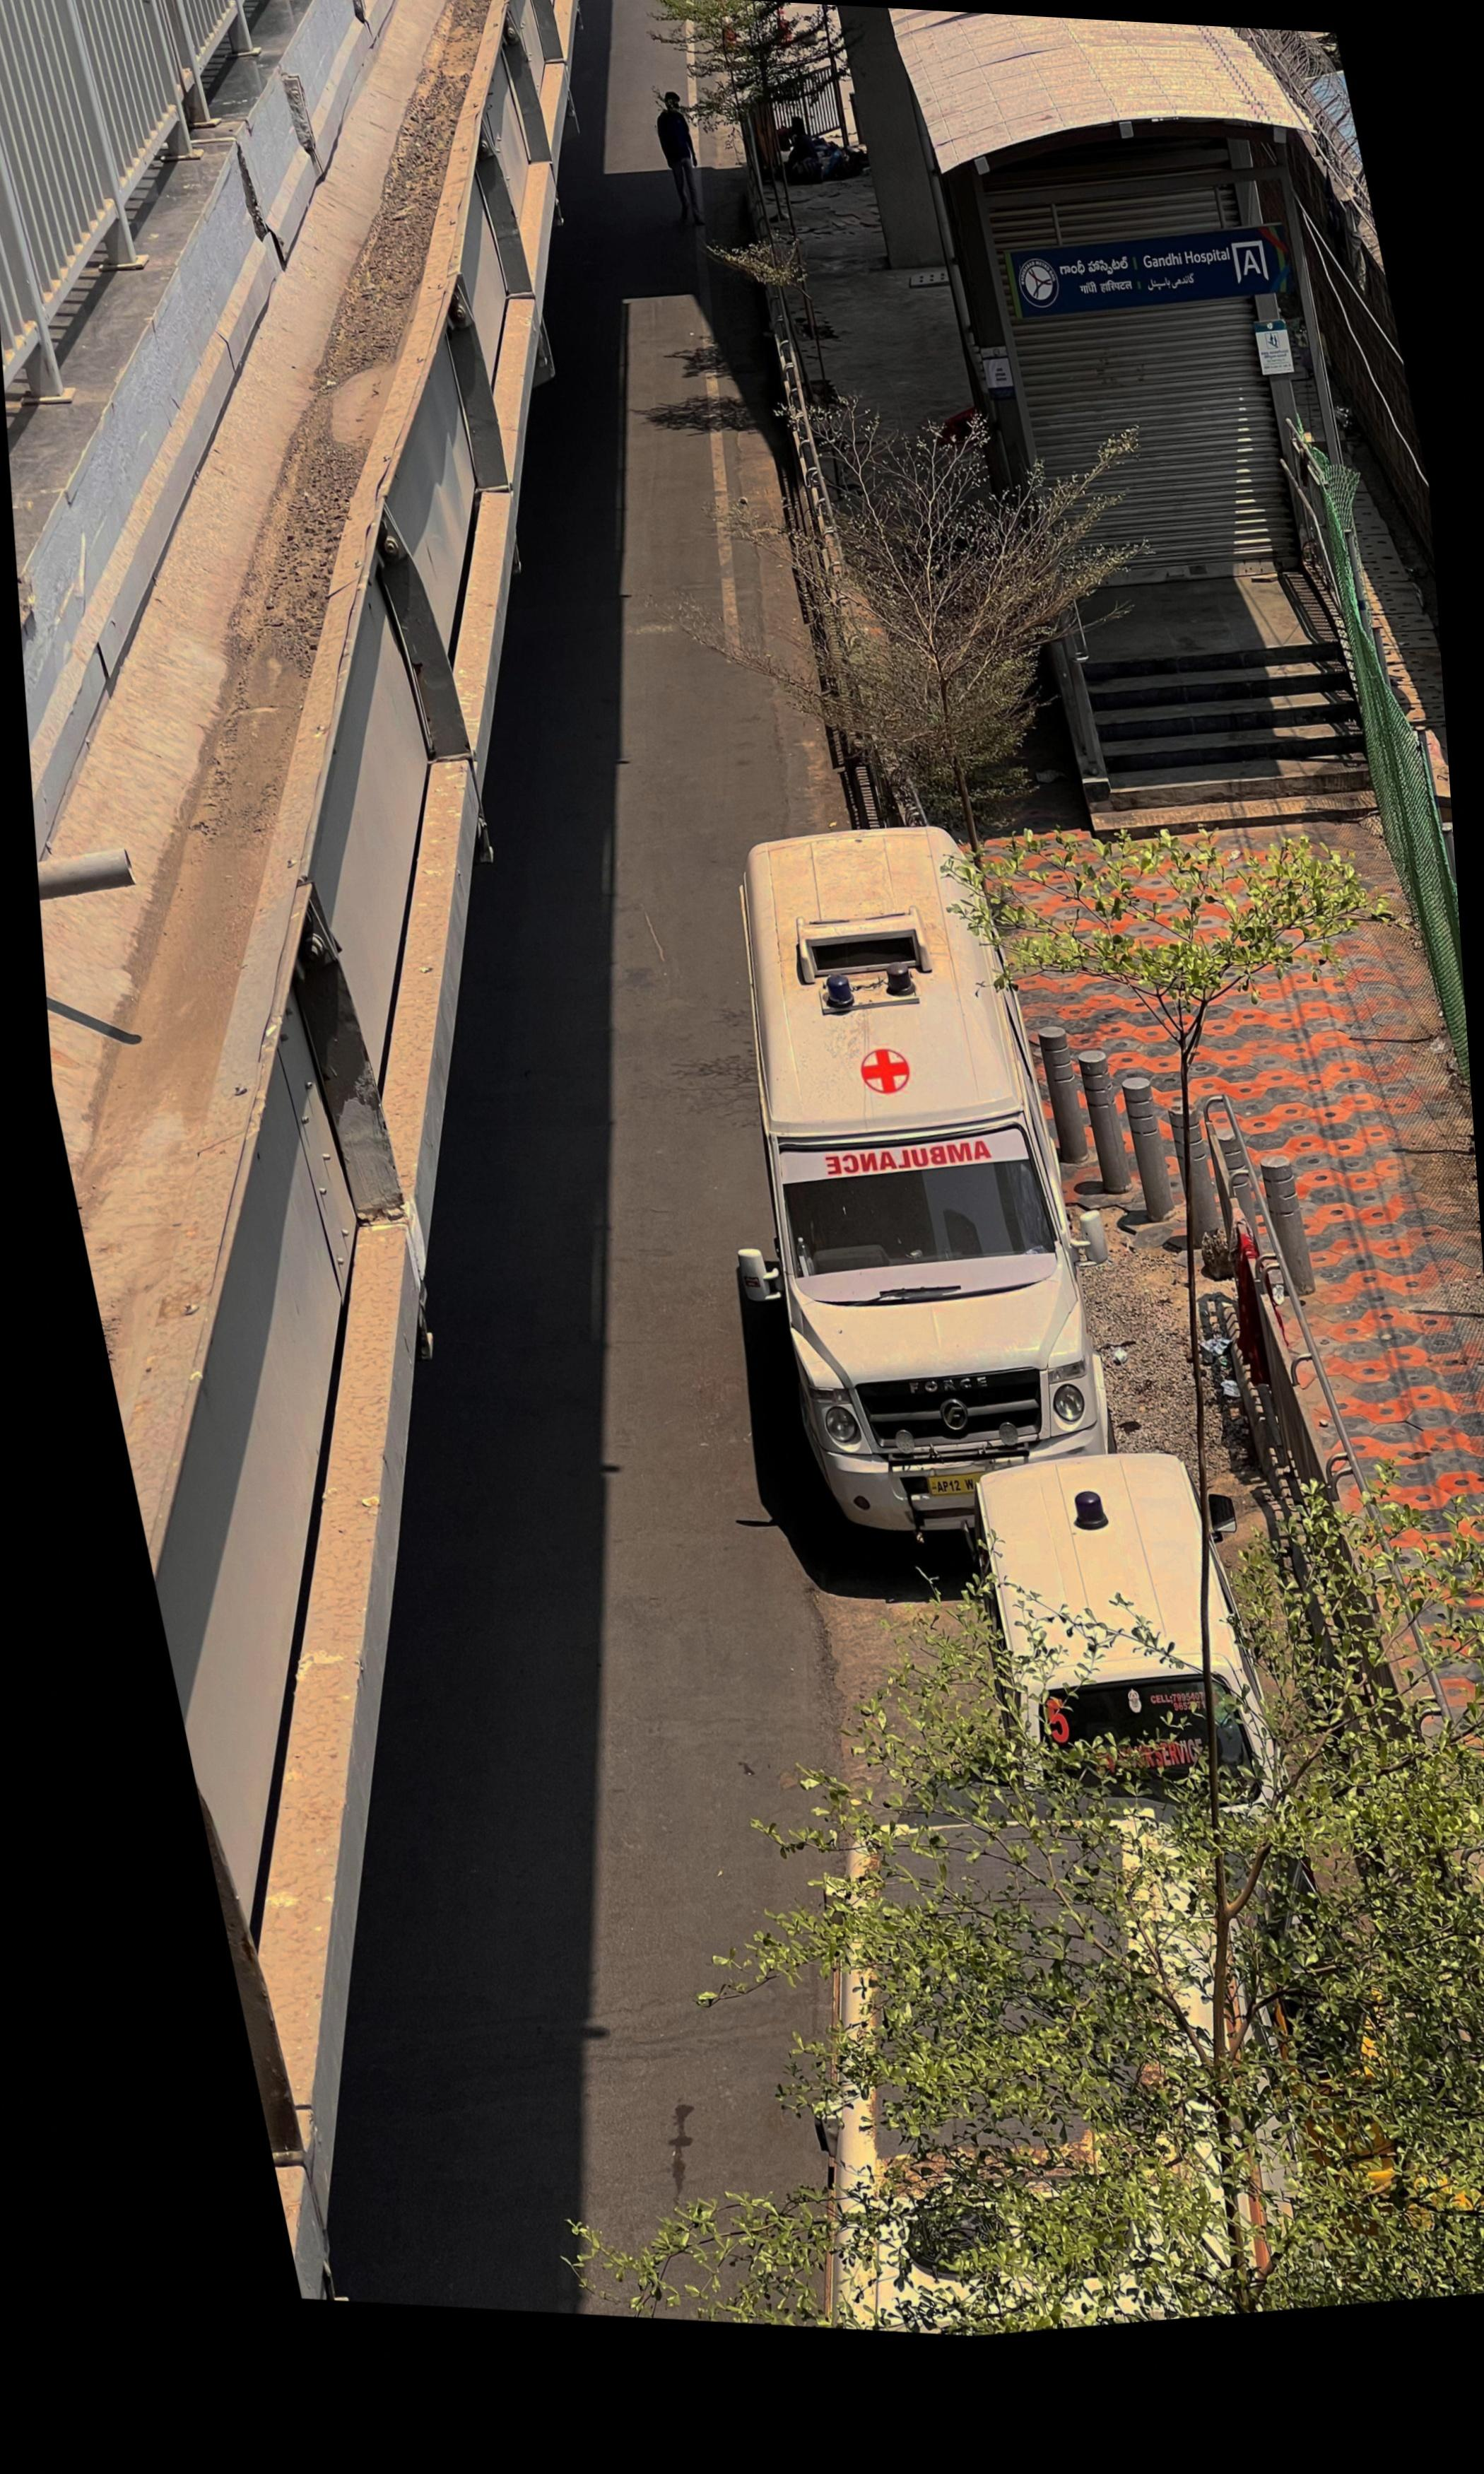ambulance: (735, 827, 1109, 1589)
